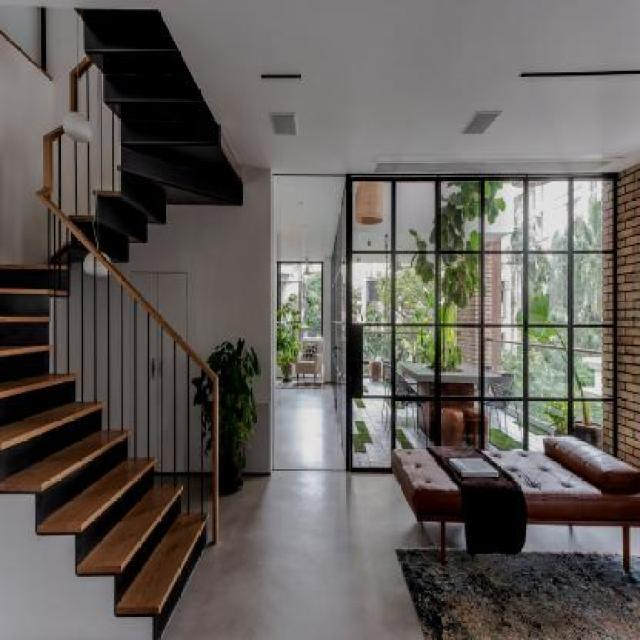stair: (0, 0, 251, 631)
